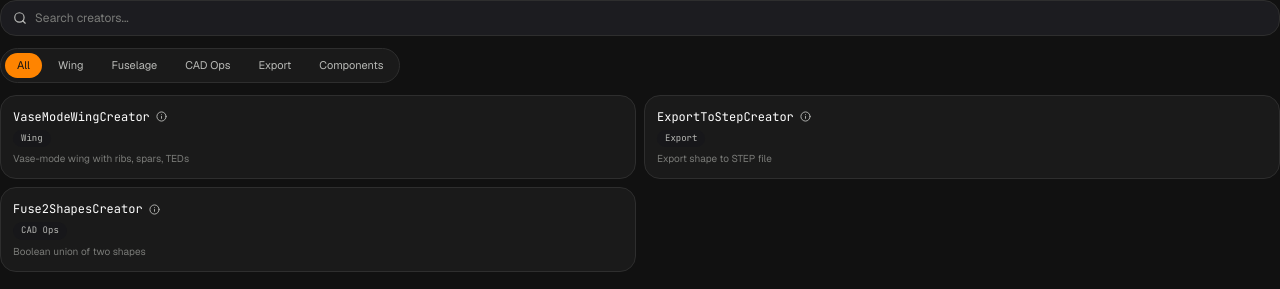
it: CreatorGallery › filters creators by category tab
Click the button "Export" at (275, 65), box [246, 53, 303, 78]
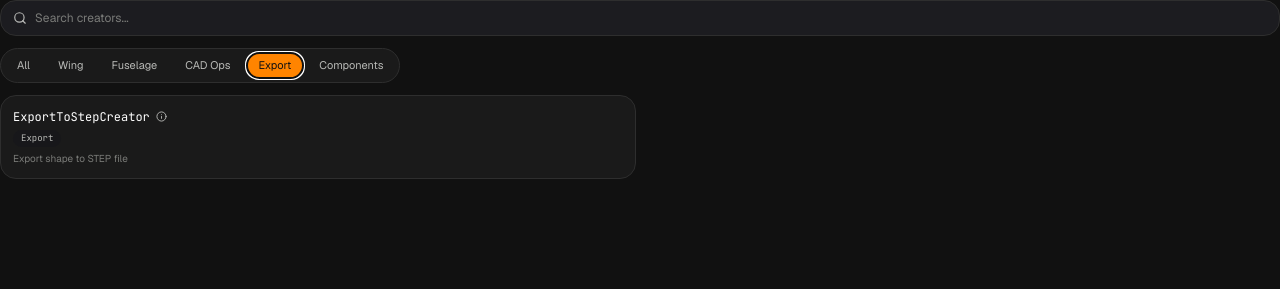
Expected: the text "ExportToStepCreator" is shown, [13, 108, 150, 126]
Expected: the button "VaseModeWingCreator" is gone
